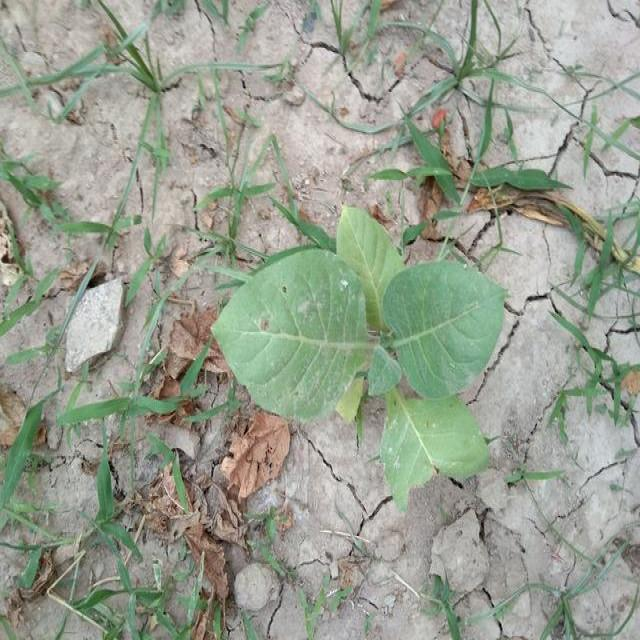crop: (218, 207, 508, 505)
